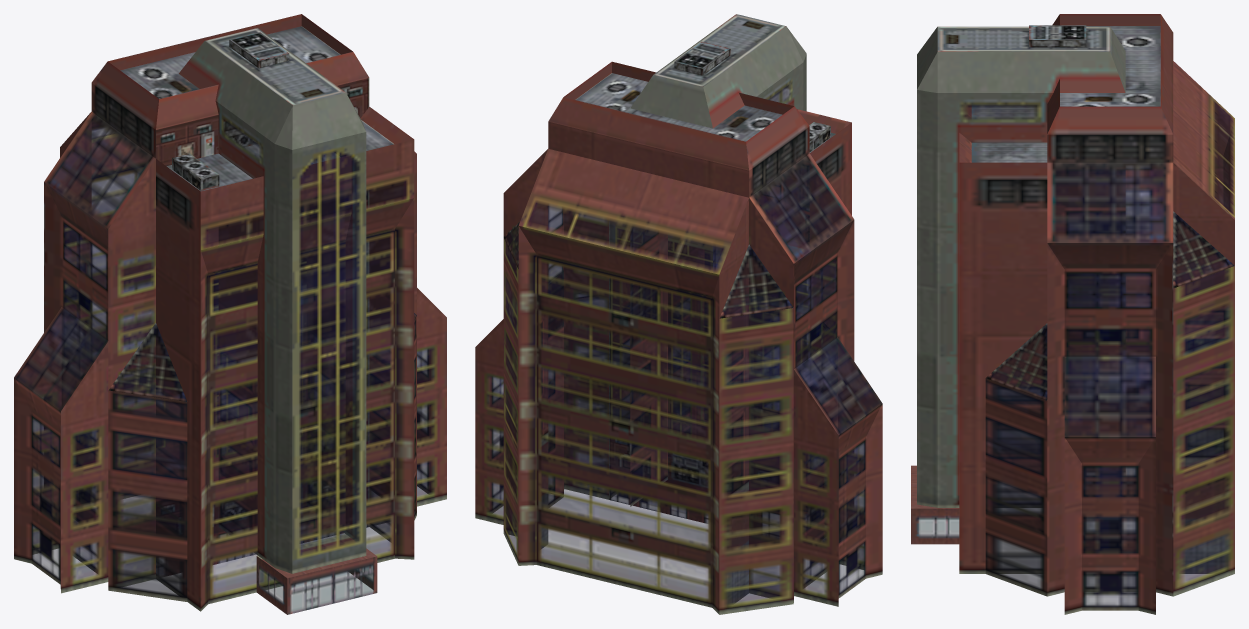
The model's file is Civilian - Civilian Building - sscrap 04 - CBsscrap04.glb.
3 renders of one model, left to right at view 1: azimuth 30°, elevation 25°; view 2: azimuth 150°, elevation 25°; view 3: azimuth 270°, elevation 25°, orthographic. The views are drawn at different scales.
Parts seen in each view (by area): view 1: CBSSCRAP04; view 2: CBSSCRAP04; view 3: CBSSCRAP04.
Boxes of the visible parts, bbox=[...] form: CBSSCRAP04: bbox=[14, 14, 446, 614]; CBSSCRAP04: bbox=[475, 14, 882, 614]; CBSSCRAP04: bbox=[911, 14, 1234, 614].
Bounding box in the file's own units: 126 × 156 × 93.44.
1 material, 1 textured.
